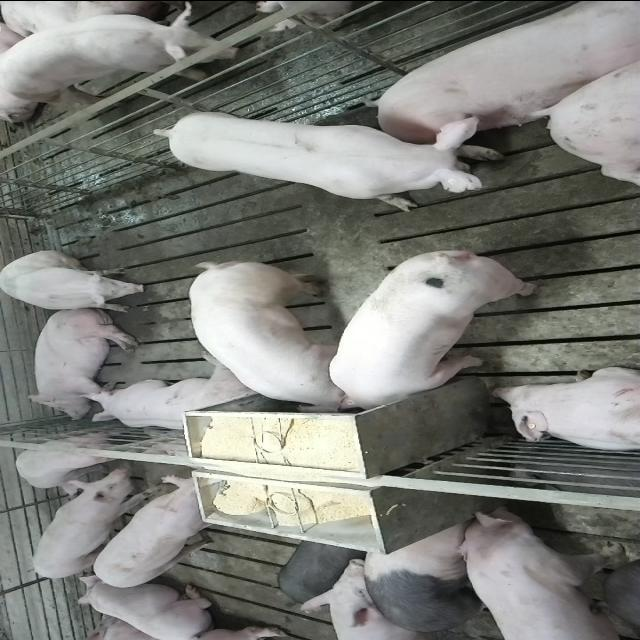Feeding: (328, 252, 540, 420), (184, 255, 360, 410)
Lateral_lying: (23, 306, 141, 420)
Sitting: (0, 250, 148, 312)
Standing: (149, 107, 510, 211), (0, 0, 239, 113), (451, 504, 640, 638), (363, 514, 505, 636), (91, 474, 226, 589), (28, 469, 160, 581), (12, 430, 136, 487)
Sternal_lying: (491, 368, 640, 454), (81, 361, 255, 432), (73, 577, 215, 637)
